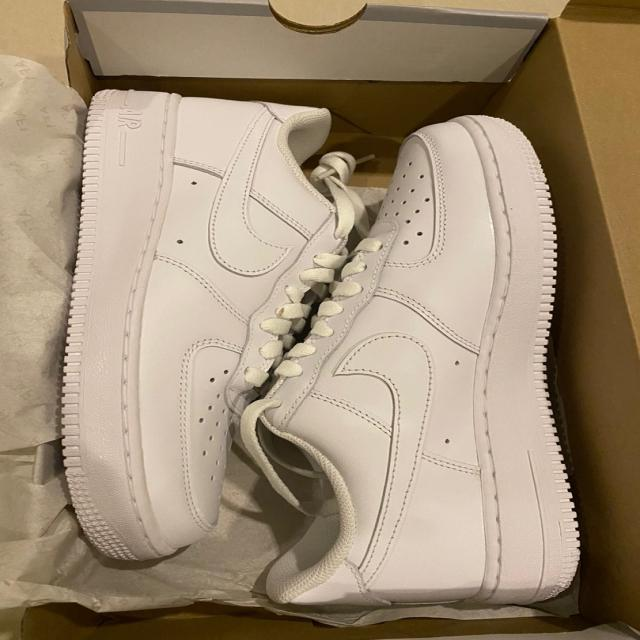nike original air force: (264, 114, 582, 604), (58, 89, 356, 568)
